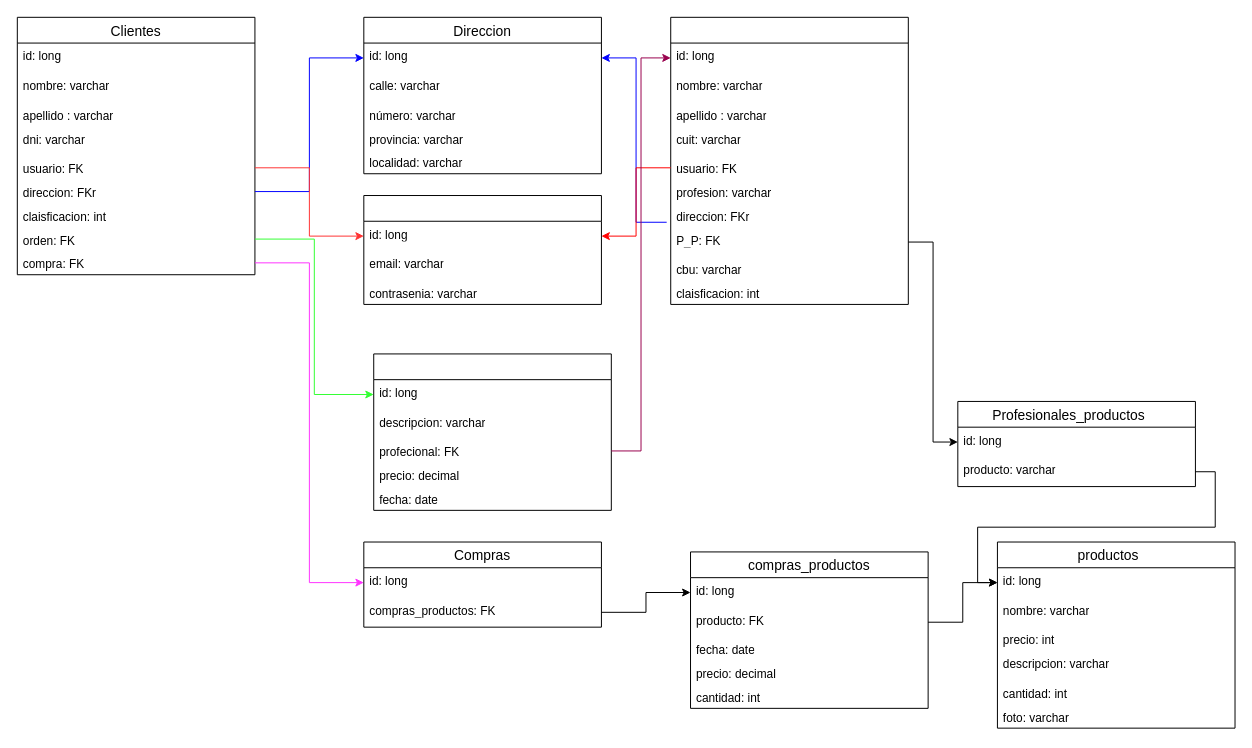
The diagram is 1252 pixels wide and 748 high, and some of its shapes have lost their labels. The box of each missing label's shape, as (x1, y1, x2, y2) in pixels:
ordenes: (373, 353, 611, 510)
Profesionales: (670, 16, 908, 304)
Usuarios: (363, 195, 601, 304)
